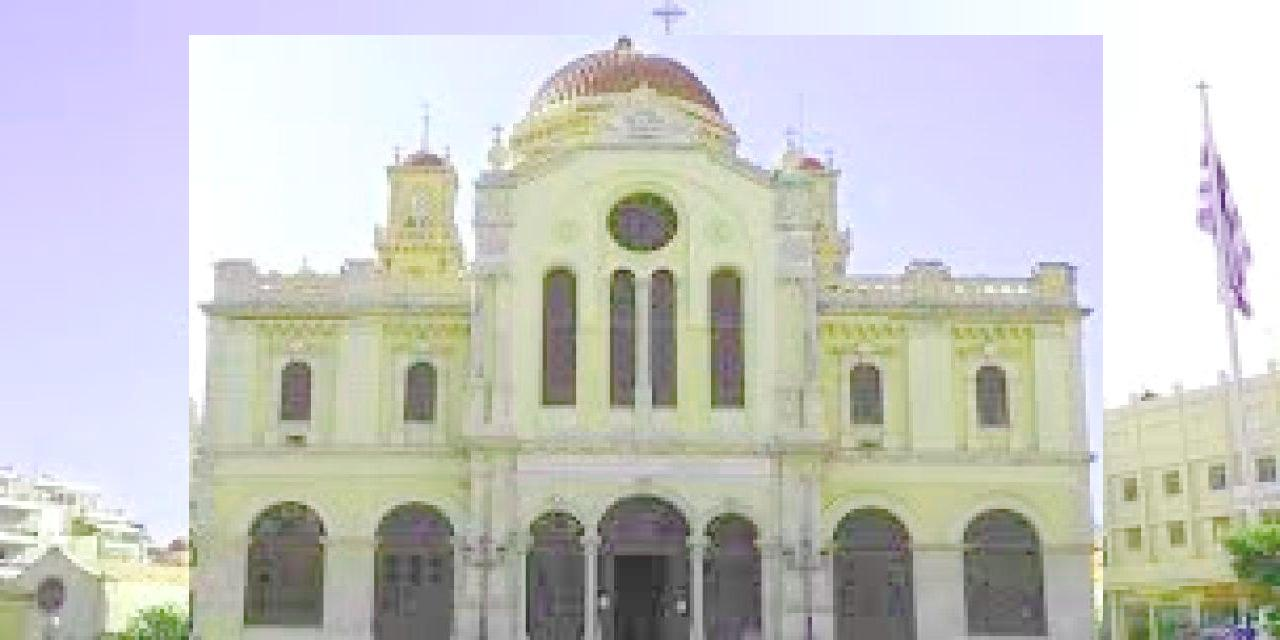Agios Minas: (190, 36, 1104, 640)
